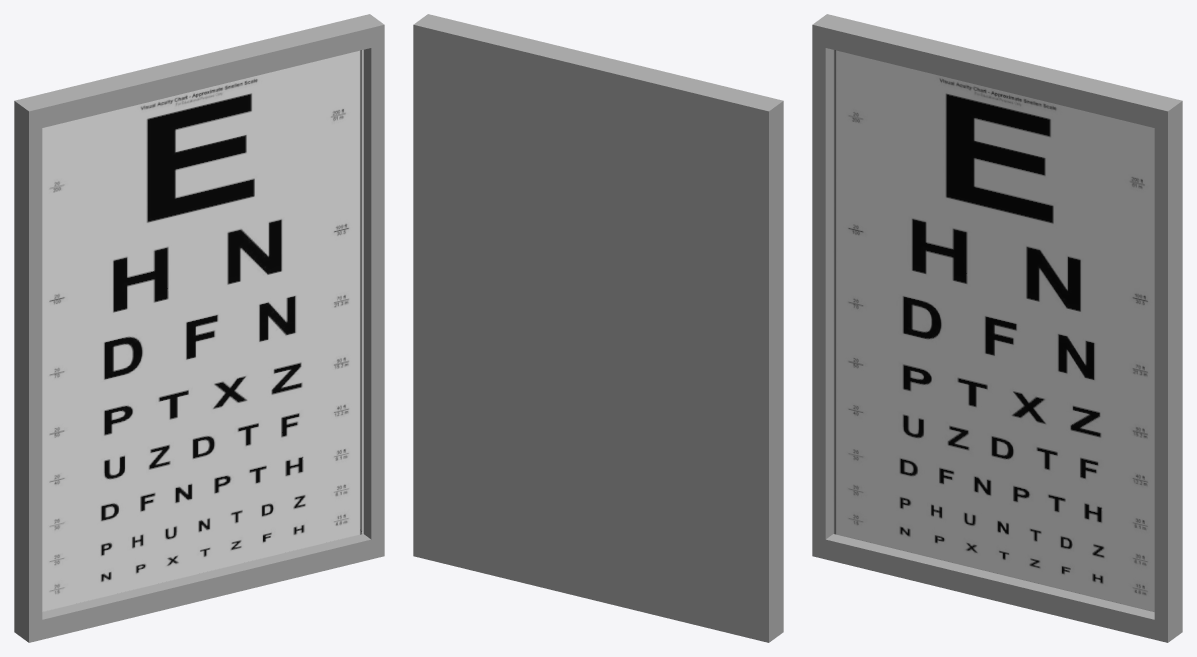
The model's file is Eye_chart.glb.
The picture shows the model from 3 angles, left to right: view 1: azimuth 30°, elevation 25°; view 2: azimuth 150°, elevation 25°; view 3: azimuth 330°, elevation 25°; orthographic projection.
Parts seen in each view (by area): view 1: Eye_Chart; view 2: Eye_Chart; view 3: Eye_Chart.
Boxes of the visible parts, x1,y1,x2,y2 form: Eye_Chart: (14, 14, 384, 642); Eye_Chart: (413, 14, 783, 642); Eye_Chart: (812, 14, 1182, 642).
Size of the model in its own units: 0.84 by 1.2 by 0.06.
2 materials, 1 textured.
